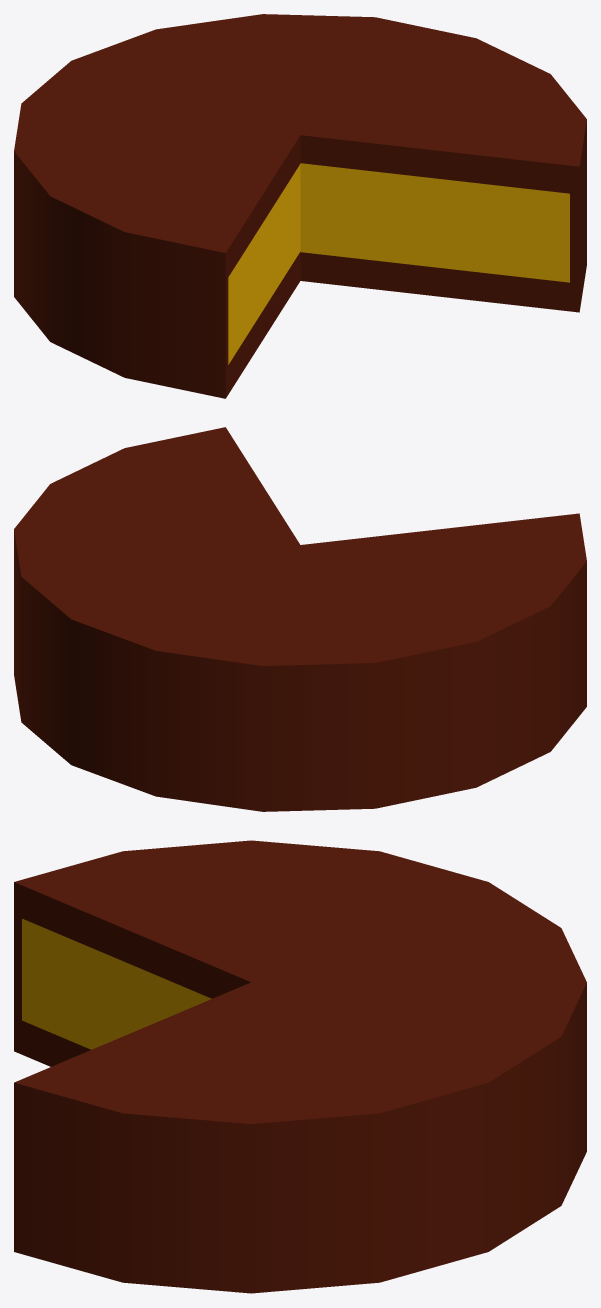
Rendered from gateau.FBX.
The picture shows the model from 3 angles, top to bottom: view 1: azimuth 30°, elevation 25°; view 2: azimuth 150°, elevation 25°; view 3: azimuth 270°, elevation 25°; orthographic projection. The views are drawn at different scales.
Visible parts, largest first — view 1: gateau; view 2: gateau; view 3: gateau.
Part boxes in pixels (left/top/right/bottom): gateau: left=14, top=14, right=586, bottom=398; gateau: left=14, top=427, right=586, bottom=811; gateau: left=14, top=840, right=586, bottom=1293.
Bounding box in the file's own units: 88.98 × 24.77 × 75.95.
